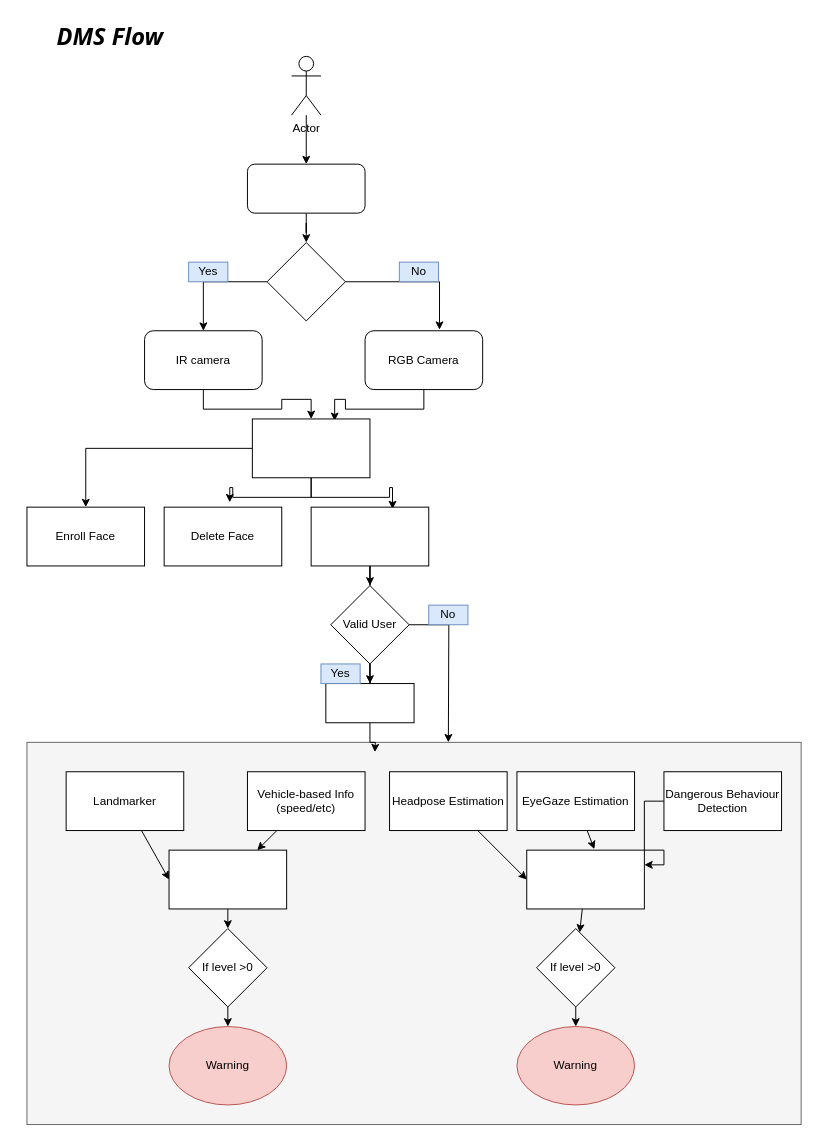
This 818x1142 diagram has some shape labels left out. Each missing label, with the box of its shape:
Adapt Profile: (325, 683, 414, 723)
Cameras: (246, 163, 365, 213)
Drowsiness Detection: (168, 849, 287, 909)
Face Matcher: (310, 506, 429, 566)
Facedetection/ FaceID: (251, 418, 370, 478)
InAttention Detection: (526, 849, 644, 909)
No lIght: (266, 242, 345, 321)
